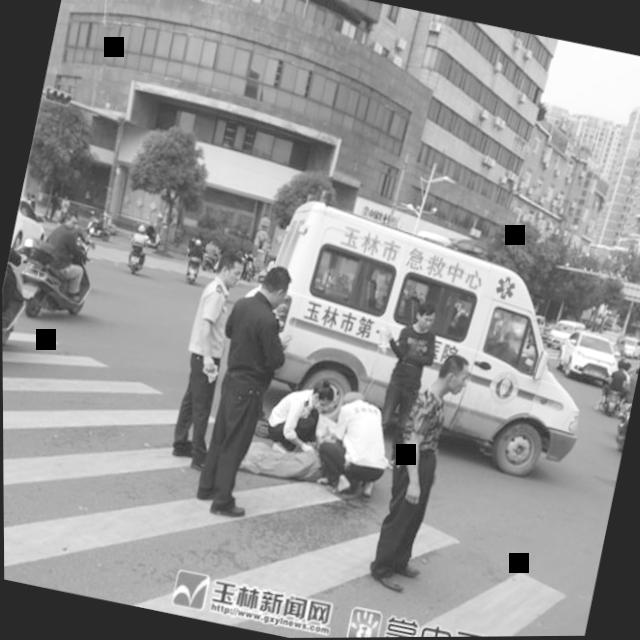Fall-Detected: (222, 411, 356, 498)
